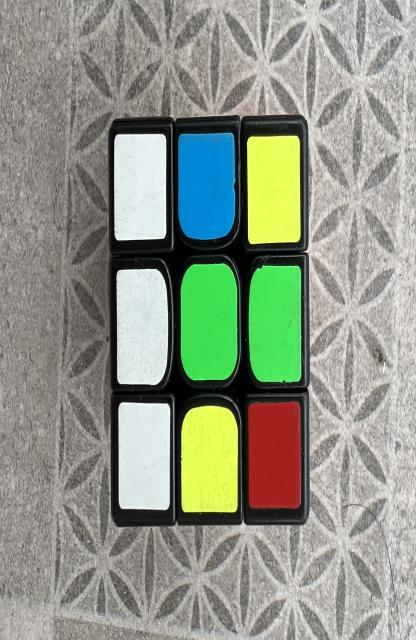Blue: (178, 132, 235, 240)
Green: (180, 263, 237, 380), (249, 265, 301, 382)
Red: (248, 402, 301, 508)
White: (116, 268, 168, 385), (114, 133, 167, 240), (119, 402, 171, 510)
Yellow: (181, 405, 238, 513), (247, 135, 301, 243)
